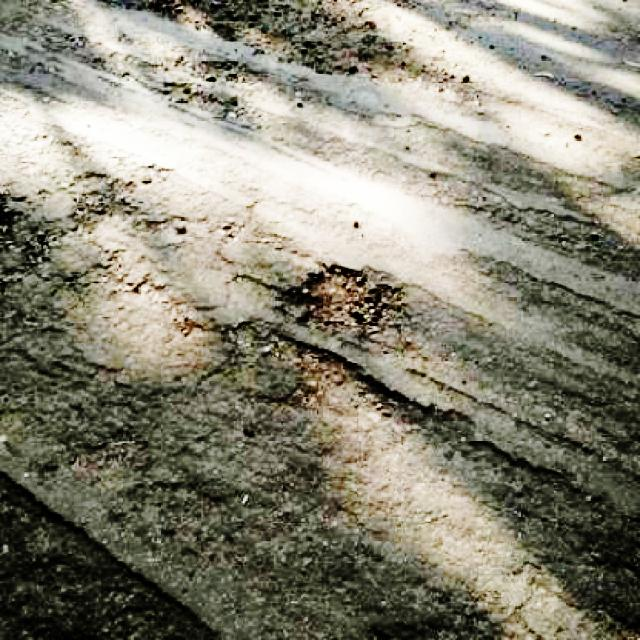pothole: (291, 263, 383, 334)
